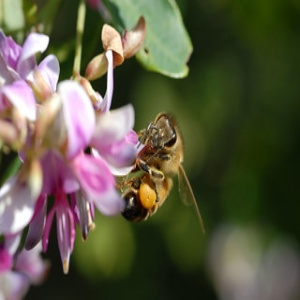bee: (119, 111, 205, 243)
